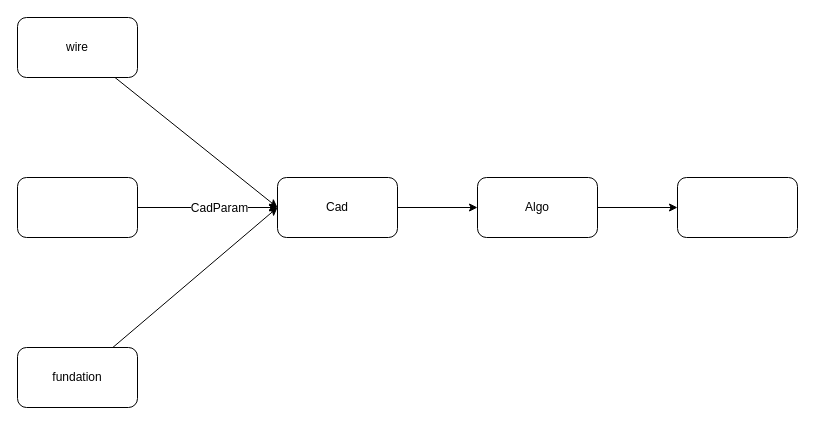
Some shapes in this 815 by 425 pixel diagram are drawn without their labels. Each missing label, with the centre of its shape:
"Kbse" goes at [737,207].
"report" goes at [77,207].
